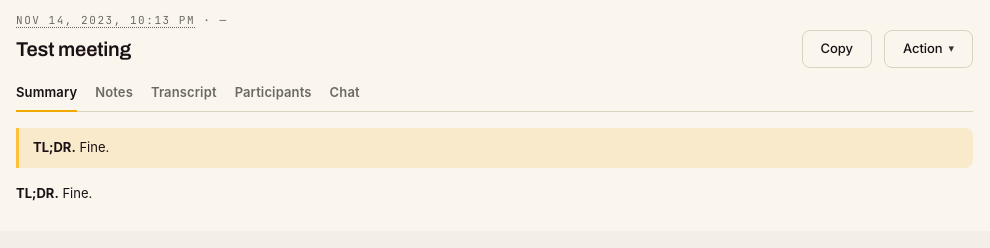
Test: SummaryPane regen-summary style flyout › lists every summary style in the Regen. Summary flyout
Click the button "Action ▾". click: (928, 49)
box: [884, 30, 973, 68]
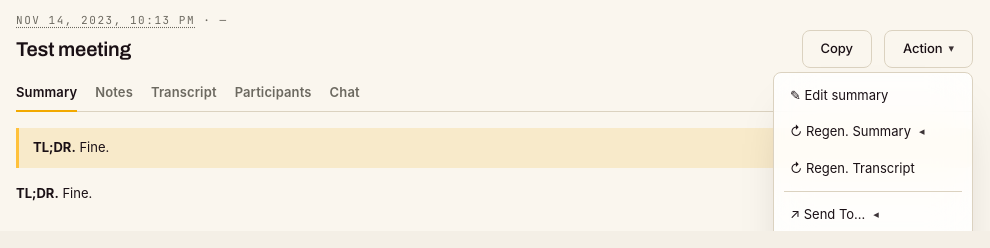
Hover over the element showing "↻ Regen. Summary ◂" at (873, 132), box [778, 113, 968, 150]
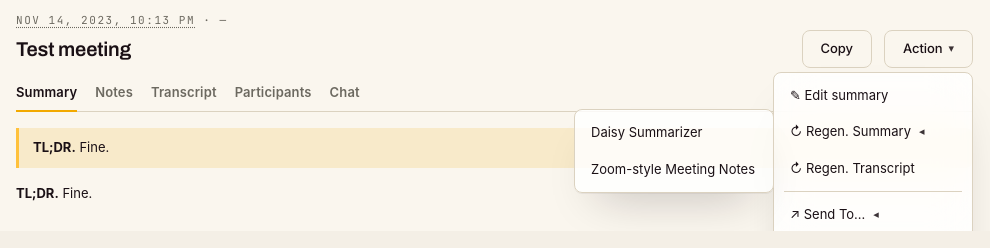
Expected: the menu item "Daisy Summarizer" is shown, [579, 114, 769, 151]
Expected: the menu item "Zoom-style Meeting Notes" is shown, [579, 151, 769, 188]
